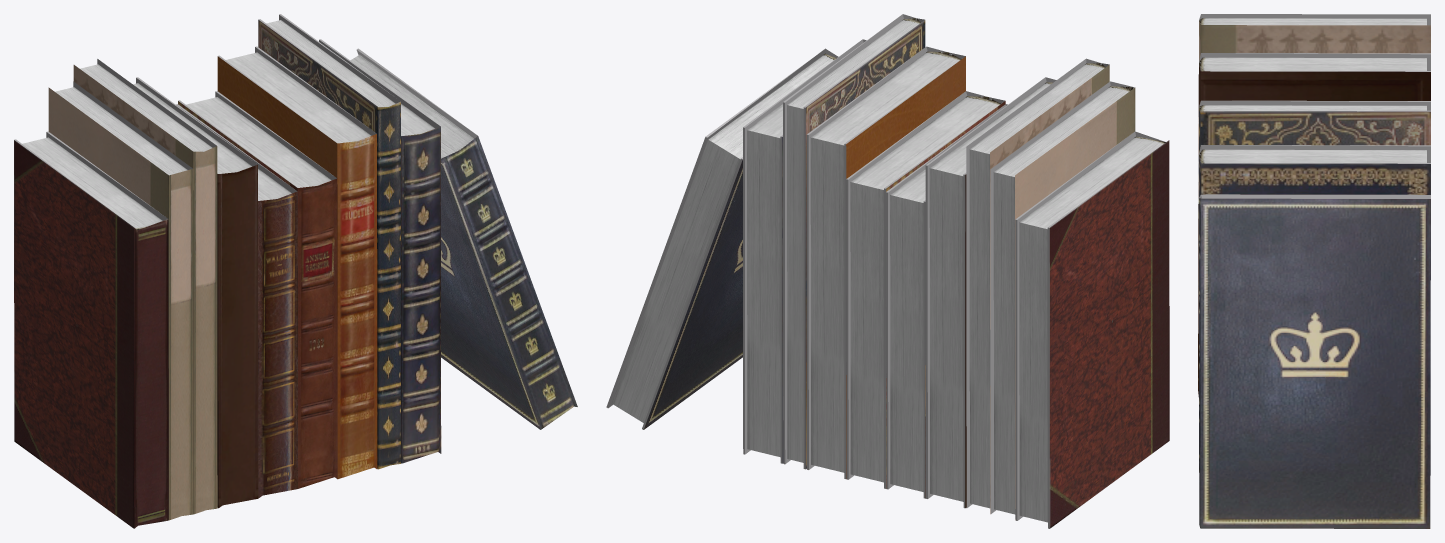
File: SM_Pack_books_2.glb
The picture shows the model from 3 angles, left to right: view 1: azimuth 30°, elevation 25°; view 2: azimuth 150°, elevation 25°; view 3: azimuth 270°, elevation 25°; orthographic projection. The views are drawn at different scales.
Visible parts, largest first — view 1: SM_Pack_books_2; view 2: SM_Pack_books_2; view 3: SM_Pack_books_2.
Boxes of the visible parts, x1,y1,x2,y2 form: SM_Pack_books_2: [14, 14, 577, 528]; SM_Pack_books_2: [606, 14, 1169, 528]; SM_Pack_books_2: [1198, 14, 1430, 528].
Bounding box in the file's own units: 0.3634 × 0.2841 × 0.1722.
Materials: 1 (1 with a texture image).
